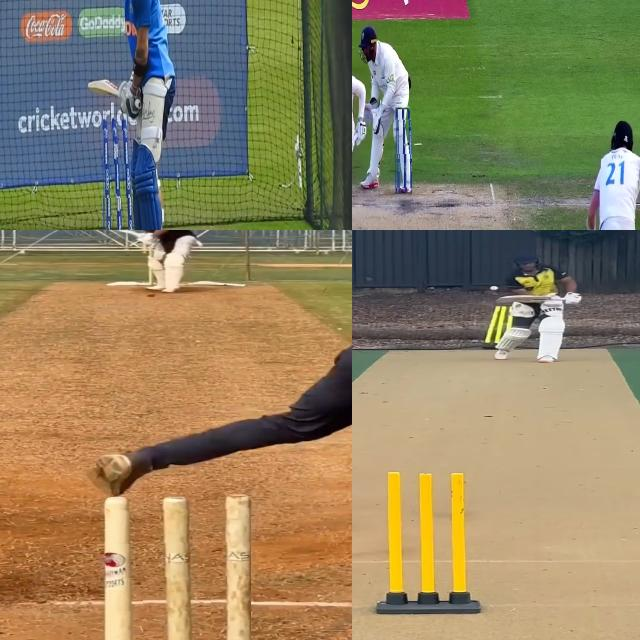Cricket ball: (489, 284, 499, 292), (147, 292, 155, 297)
Stumps: (105, 493, 251, 640), (377, 470, 483, 615), (101, 112, 132, 230), (394, 103, 412, 197)
